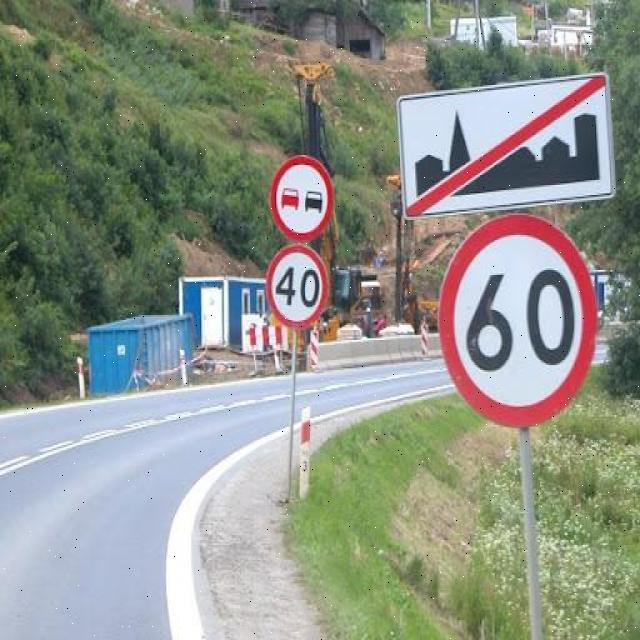speed limit 40: (266, 244, 328, 327)
speed limit 60: (435, 214, 598, 427)
